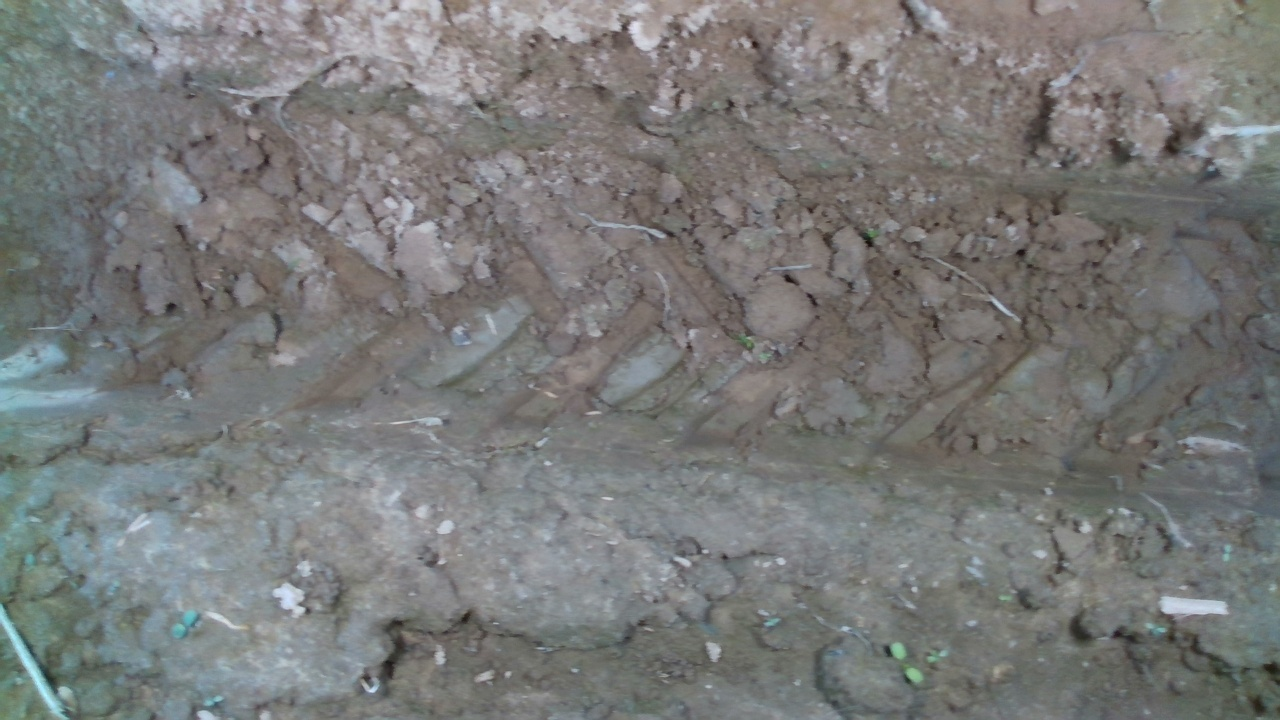weed: (887, 640, 925, 685), (169, 608, 198, 640), (925, 645, 948, 666)
